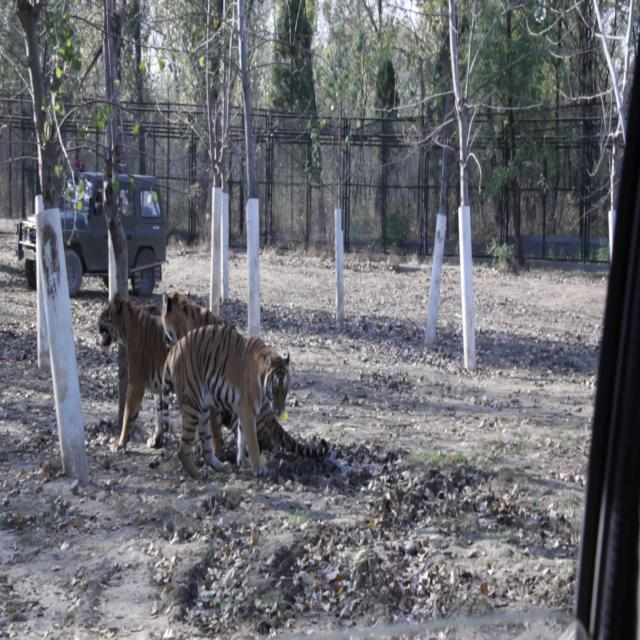Tiger: (142, 319, 310, 480), (99, 285, 167, 438), (158, 284, 234, 336)
